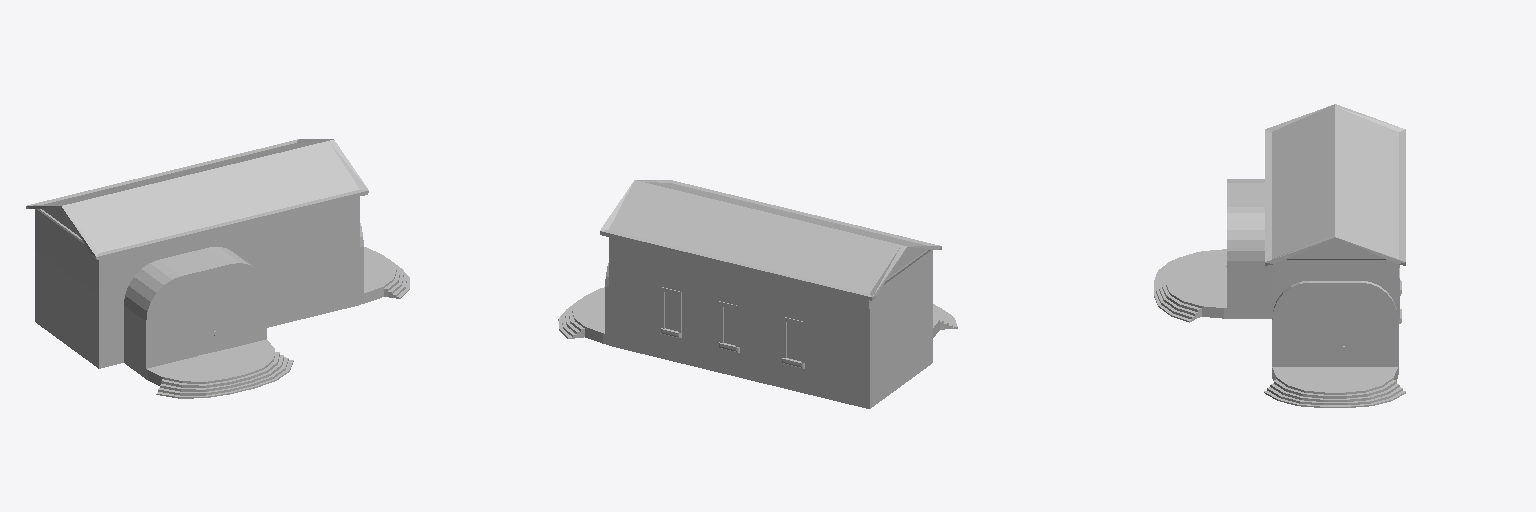
File: Town Hall Storefront.obj
The picture shows the model from 3 angles: view 1: azimuth 30°, elevation 25°; view 2: azimuth 150°, elevation 25°; view 3: azimuth 270°, elevation 25°; orthographic projection.
Visible parts, largest first — view 1: Building, Side, Front; view 2: Building, Front; view 3: Building, Front, Side.
Boxes of the visible parts, x1,y1,x2,y2 form: Building: [26, 139, 368, 368]; Side: [124, 247, 293, 398]; Front: [360, 223, 409, 304]; Building: [600, 180, 941, 408]; Front: [558, 263, 608, 344]; Building: [1265, 104, 1405, 374]; Front: [1264, 281, 1405, 407]; Side: [1154, 179, 1271, 322].
Size of the model in its own units: 33.32 by 13.41 by 21.81.